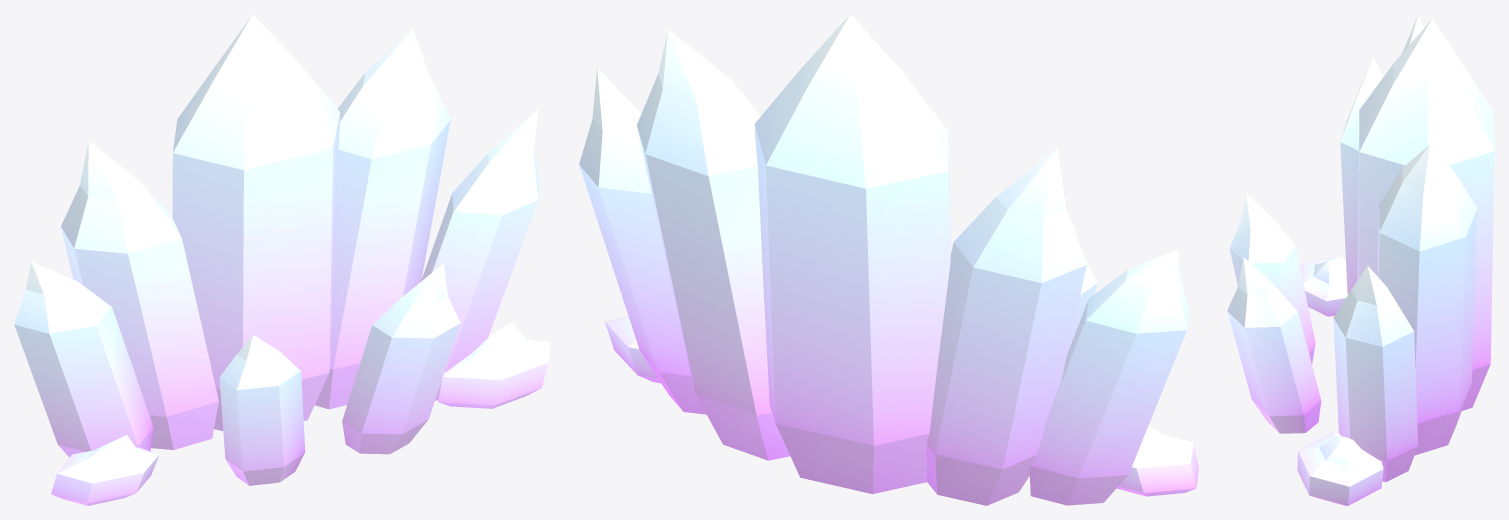
The model's file is crystal_cluster_small_b.glb.
3 views of the same model, side by side, from view 1: azimuth 30°, elevation 25°; view 2: azimuth 150°, elevation 25°; view 3: azimuth 270°, elevation 25° (orthographic). The views are drawn at different scales.
Parts seen in each view (by area): view 1: crystal_cluster_small_b; view 2: crystal_cluster_small_b; view 3: crystal_cluster_small_b.
Boxes of the visible parts, <box> form: crystal_cluster_small_b: <box>14,14,550,505</box>; crystal_cluster_small_b: <box>579,14,1198,505</box>; crystal_cluster_small_b: <box>1227,14,1494,505</box>.
Size of the model in its own units: 2.08 by 1.48 by 0.9484.
